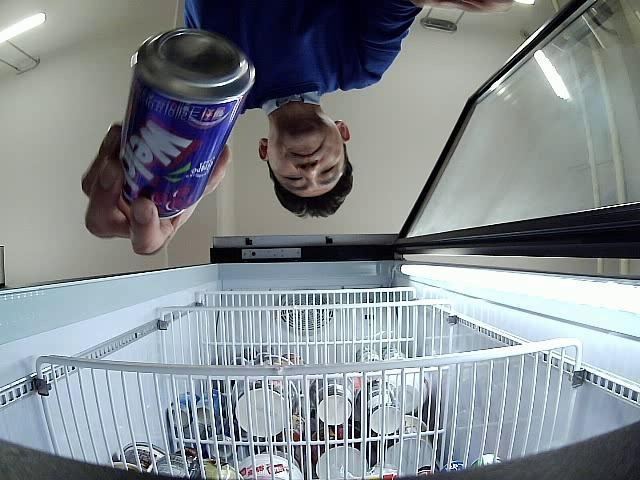14_welchsGrape: (120, 27, 256, 218)
